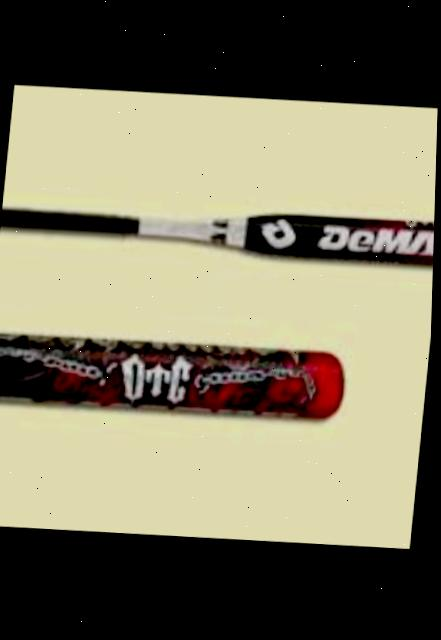baseball bat: (0, 188, 437, 274), (0, 326, 350, 426)
